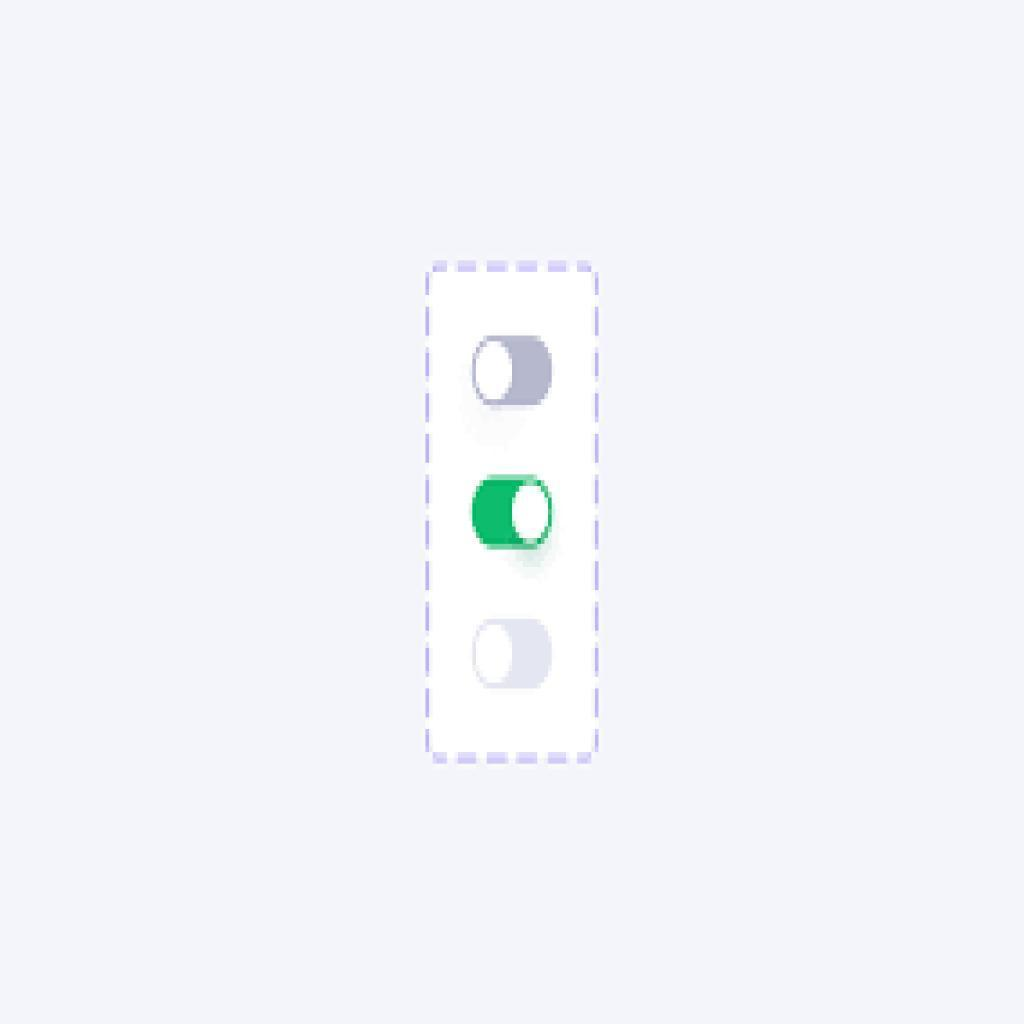switch: (473, 617, 556, 692), (471, 476, 554, 549), (473, 335, 552, 408)
